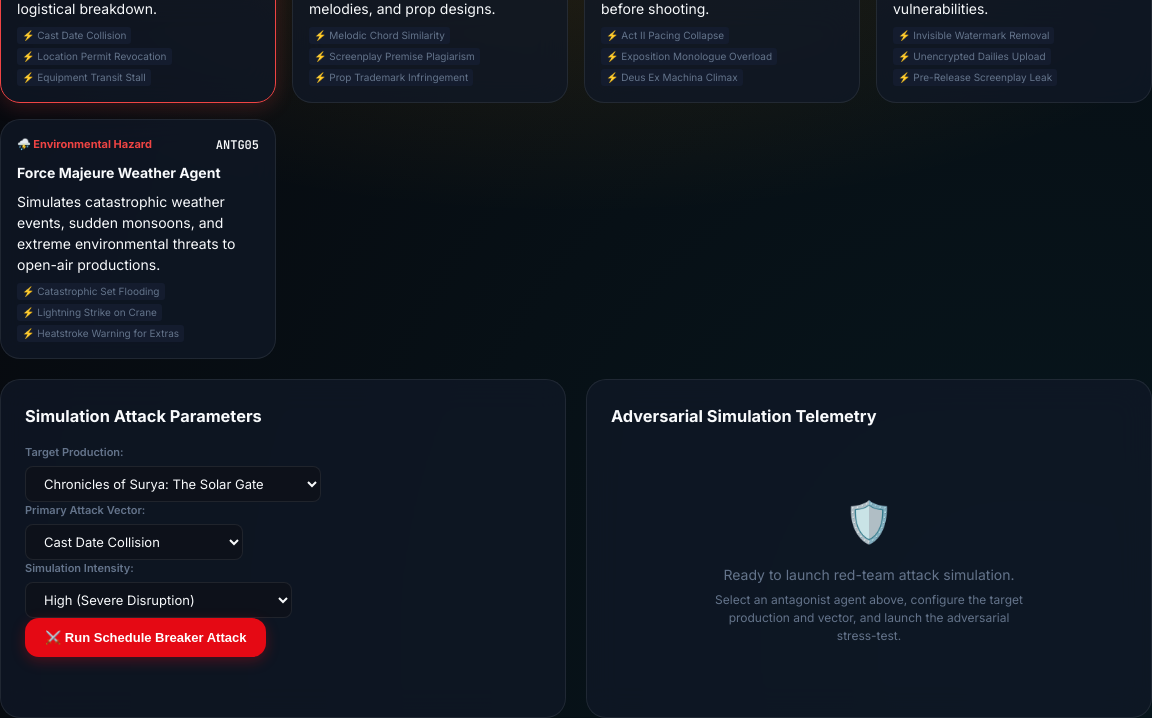
Test case: AntagonistLab Component › runs adversarial simulation and displays telemetry report
(page scrolled)
Click the button "⚔️ Run Schedule Breaker Attack".
click(146, 638)  # box x1=25 y1=618 x2=266 y2=657
(page scrolled)
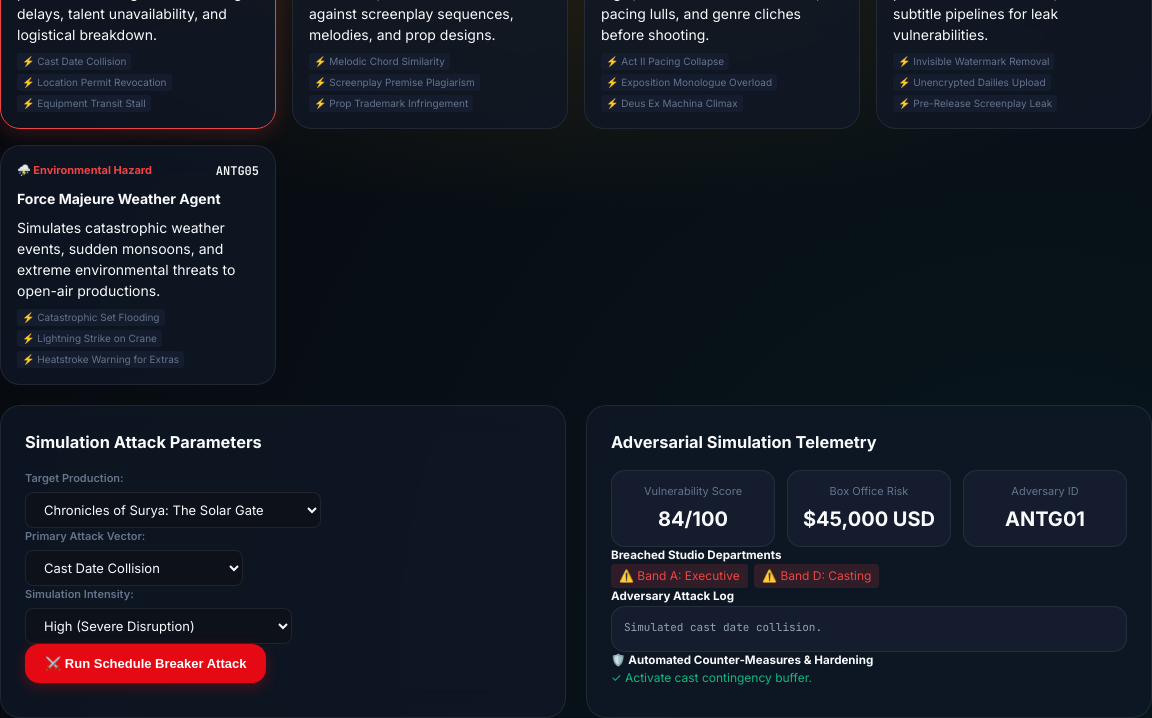
Check: the text "84/100" is shown, box x1=658 y1=507 x2=728 y2=531
Check: the text "$45,000 USD" is shown, box x1=803 y1=507 x2=935 y2=531
